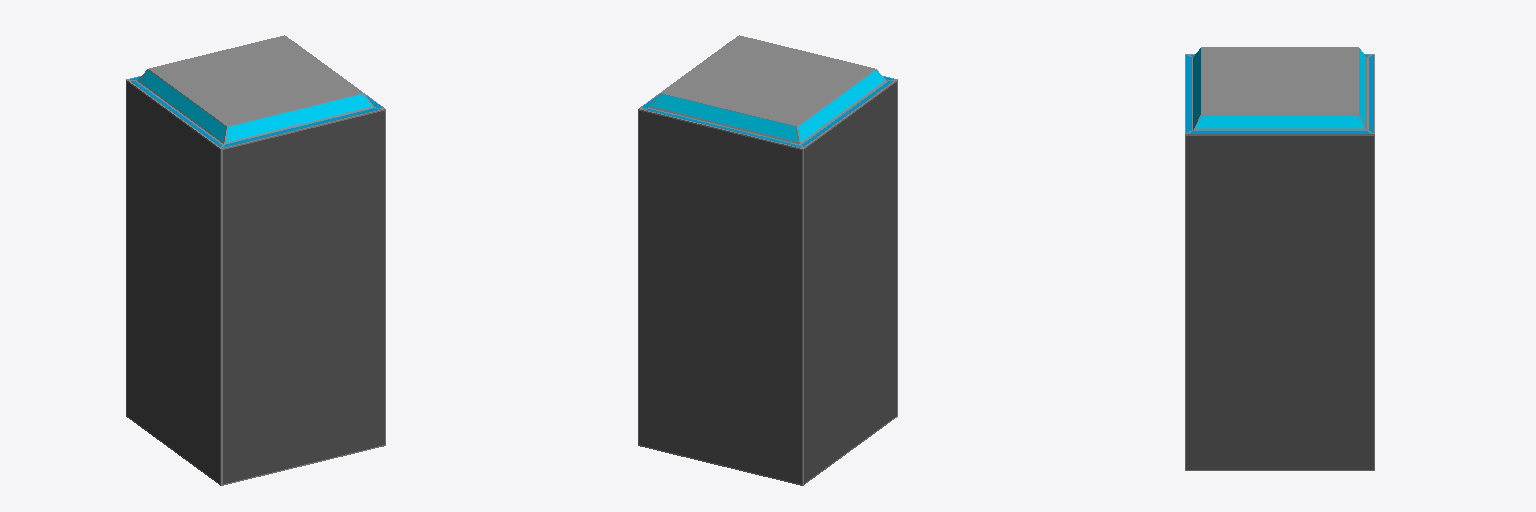
3 renders of one model, left to right at view 1: azimuth 30°, elevation 25°; view 2: azimuth 150°, elevation 25°; view 3: azimuth 270°, elevation 25°, orthographic.
Visible parts, largest first — view 1: cube3_copy10; view 2: cube3_copy10; view 3: cube3_copy10.
Part boxes in pixels (x1,y1,x2,y2): cube3_copy10: (126, 35, 385, 485); cube3_copy10: (638, 35, 897, 485); cube3_copy10: (1185, 47, 1374, 470).
Size of the model in its own units: 0.77 by 1.56 by 0.77.
1 materials, 1 textured.